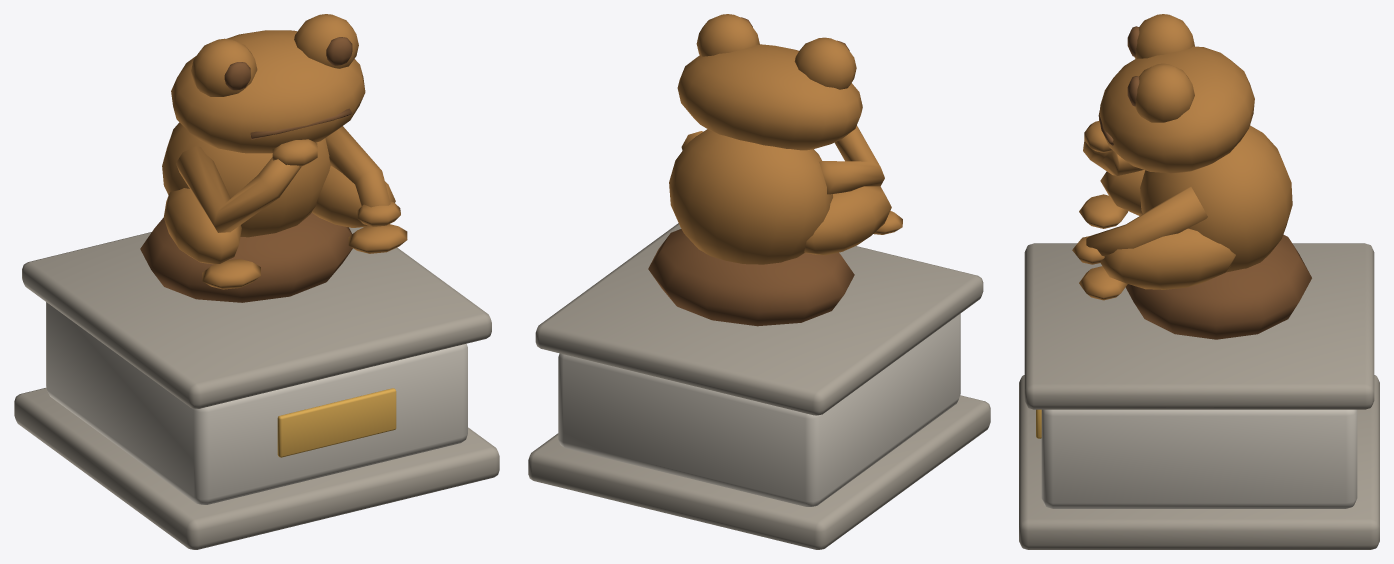
Rendered from art-thinking-frog.glb.
3 renders of one model, left to right at view 1: azimuth 30°, elevation 25°; view 2: azimuth 150°, elevation 25°; view 3: azimuth 270°, elevation 25°, orthographic. The views are drawn at different scales.
Parts seen in each view (by area): view 1: art; view 2: art; view 3: art.
Boxes of the visible parts, left/top/right/bottom form: art: left=14, top=14, right=499, bottom=549; art: left=528, top=14, right=990, bottom=549; art: left=1019, top=14, right=1379, bottom=549.
Size of the model in its own units: 0.32 by 0.426 by 0.32.
